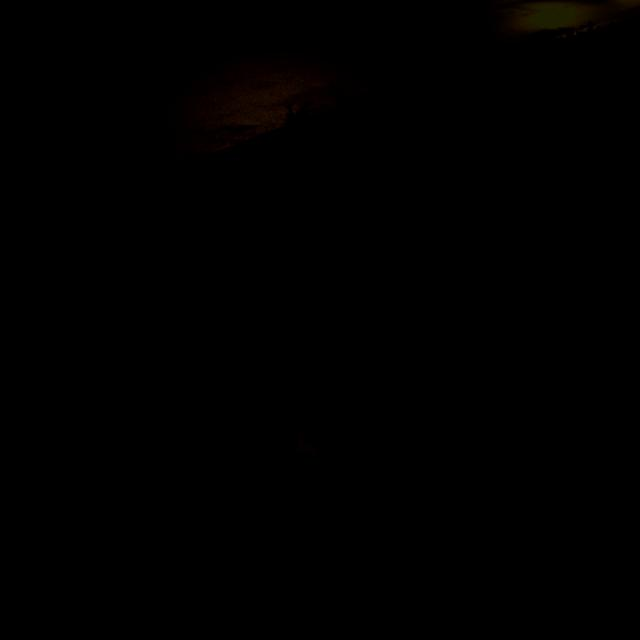Dog: (236, 250, 469, 440)
